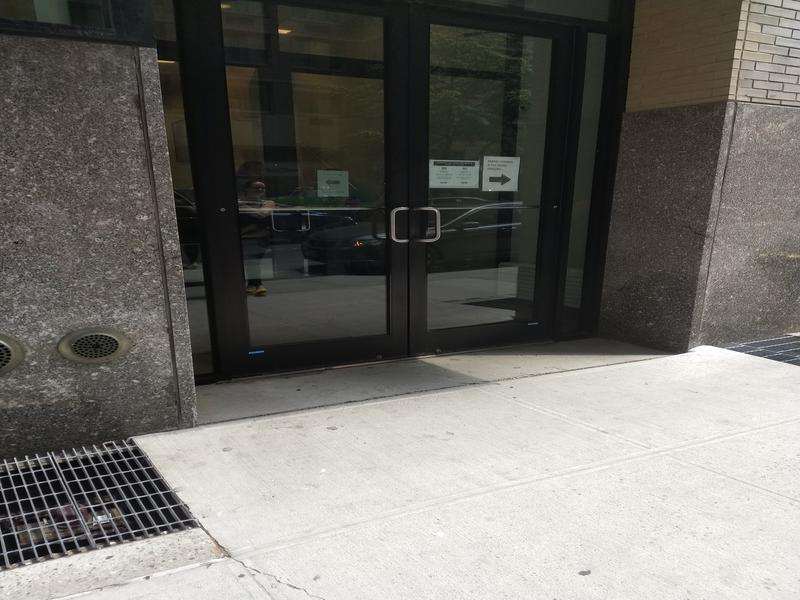double_door: (211, 3, 574, 380)
